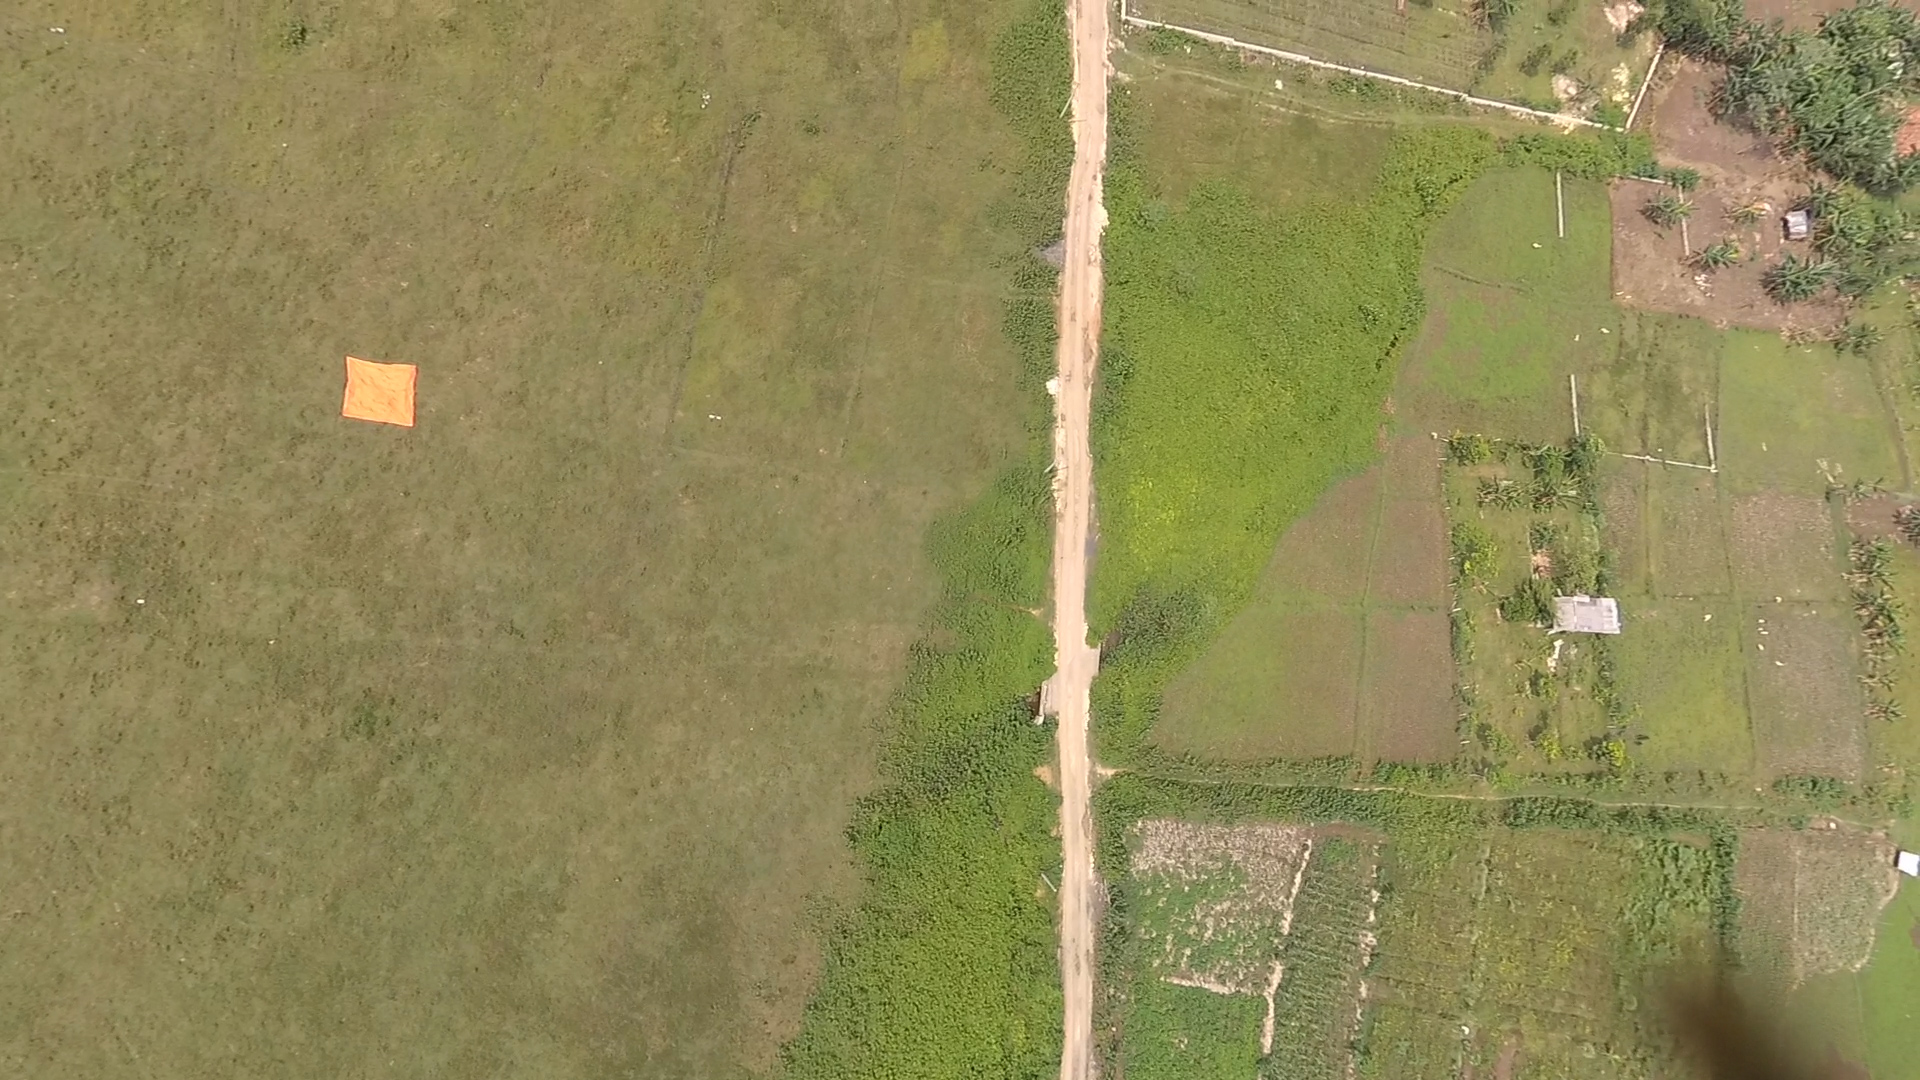Orange Dropzone: (339, 355, 419, 430)
